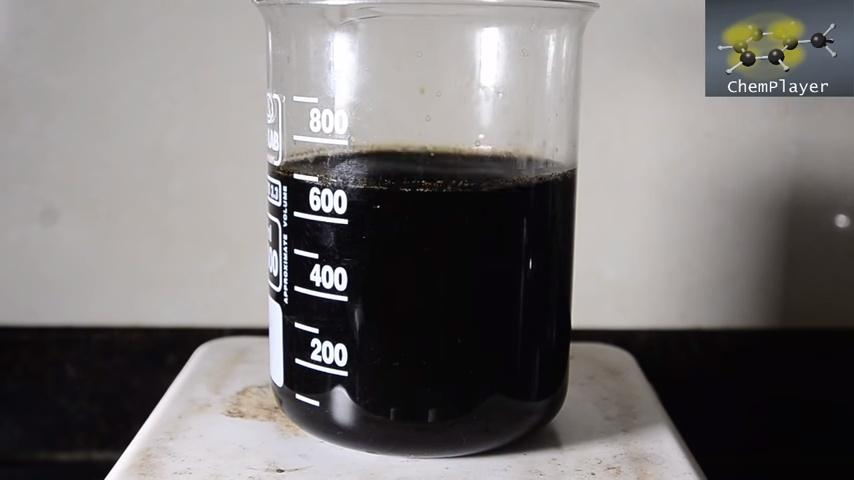Beaker: (251, 9, 605, 463)
